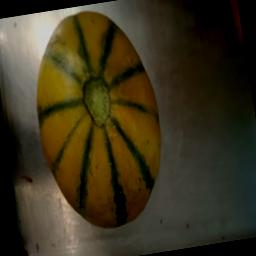Melon Ripe: (11, 2, 188, 242)
